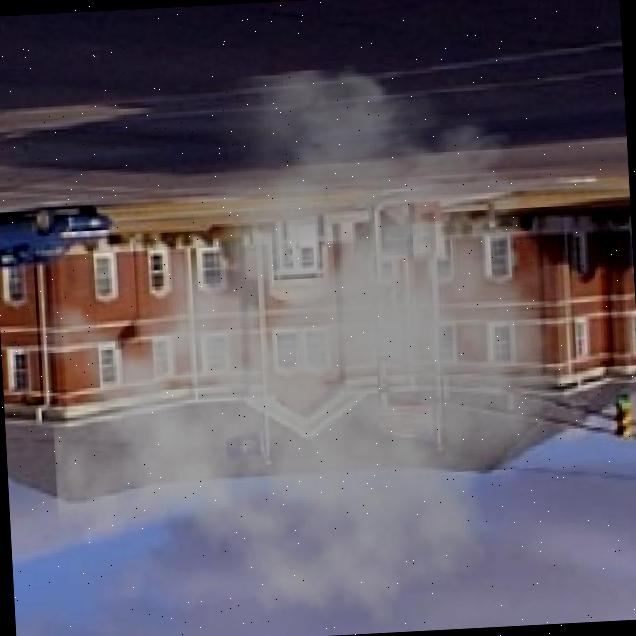smoke: (35, 53, 619, 636)
